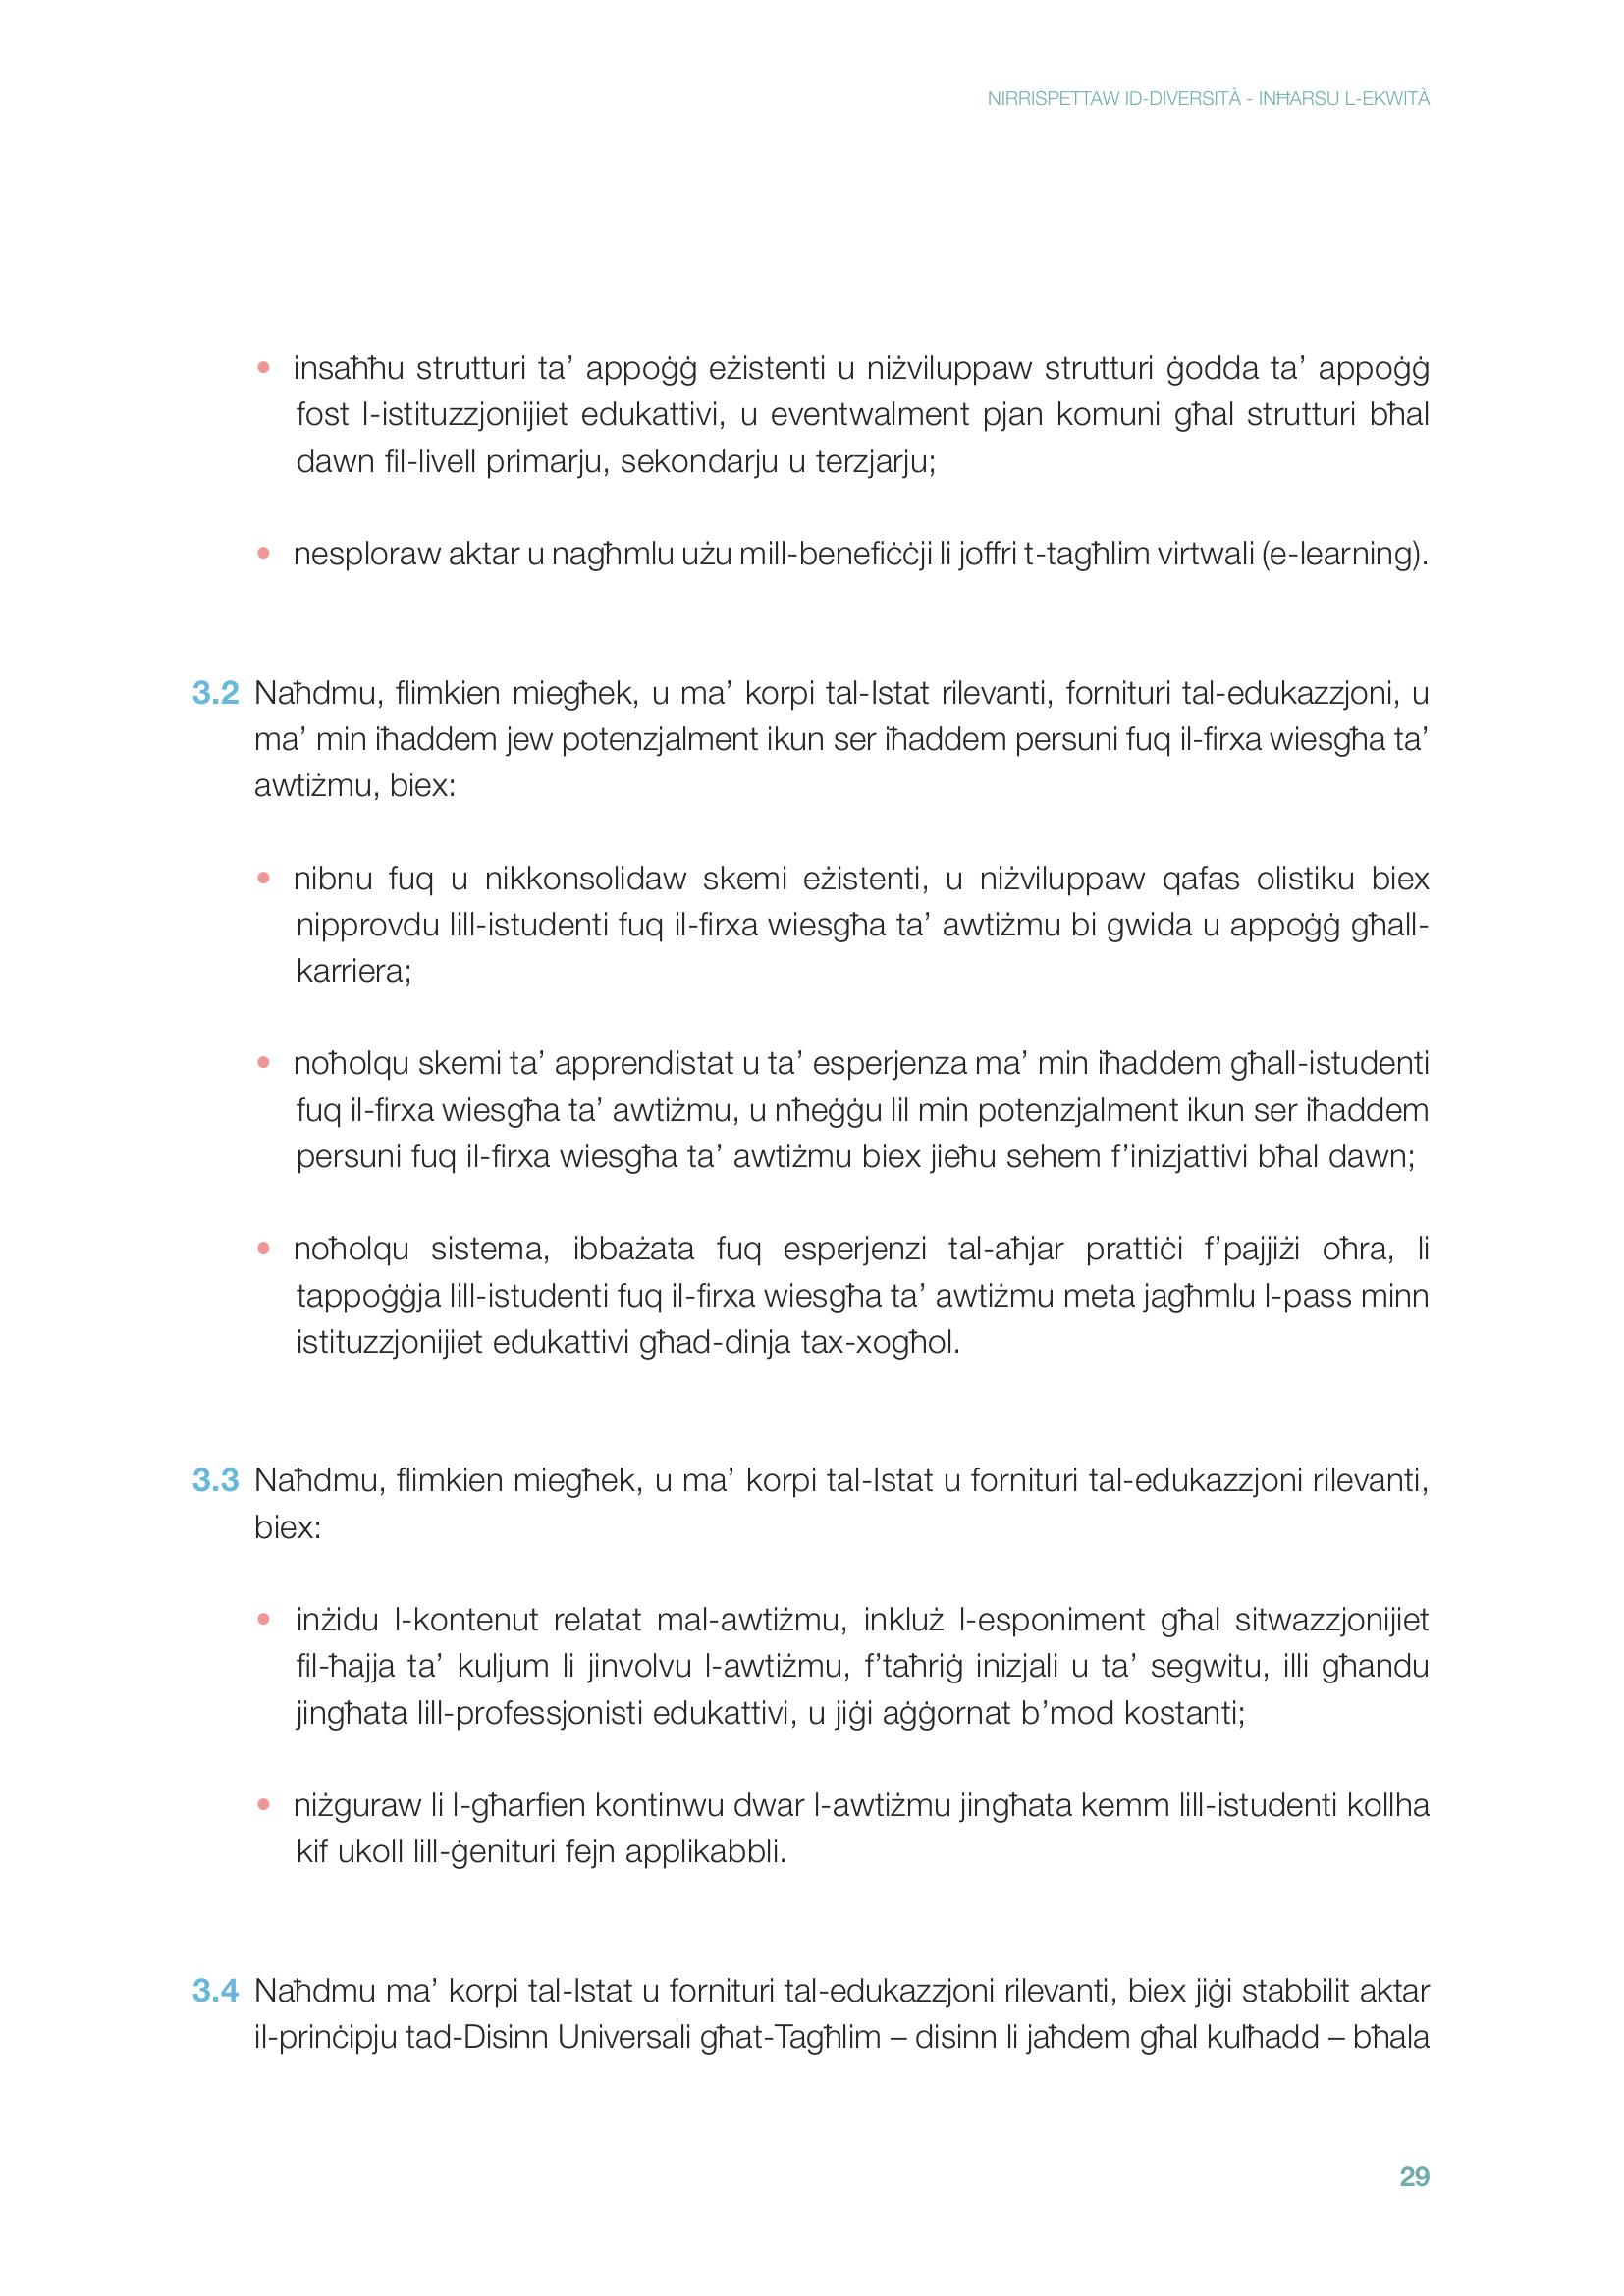text: (179, 334, 1450, 2096)
